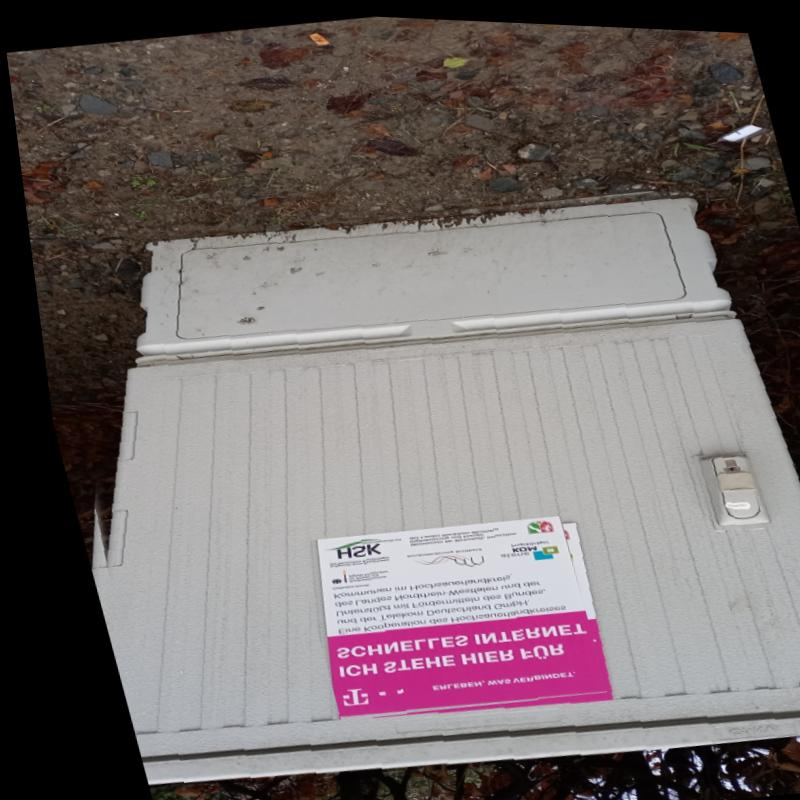NT-Gehause: (90, 182, 800, 784)
Steaker: (275, 501, 593, 727)
